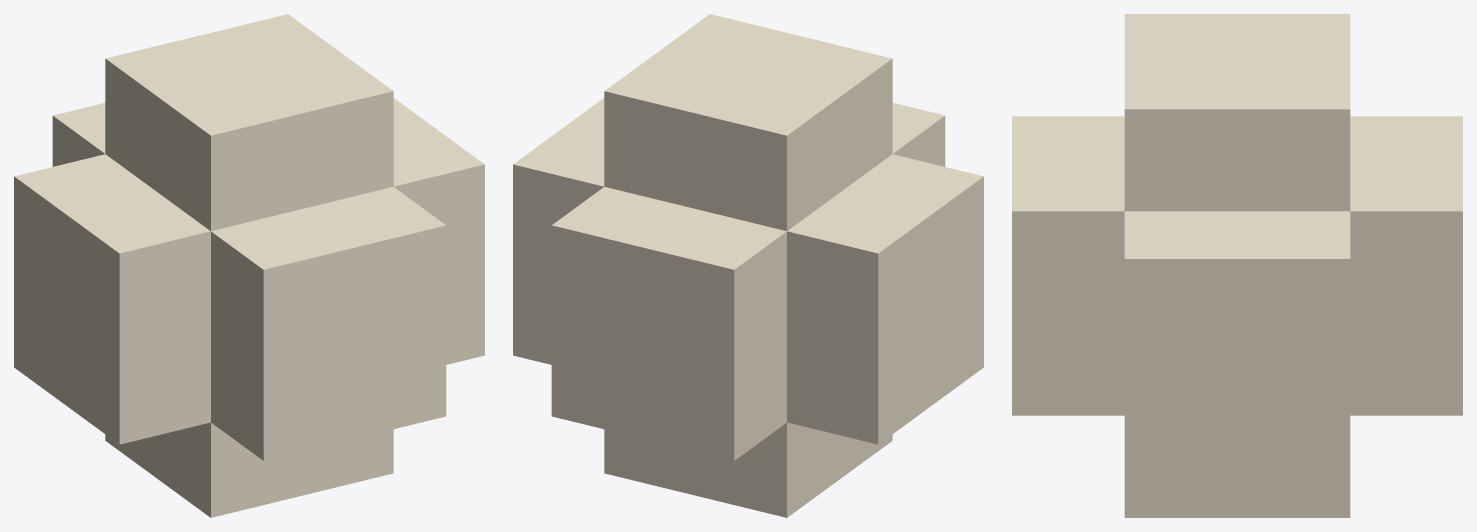
The model's file is lamb__tail.glb.
3 views of the same model, side by side, from view 1: azimuth 30°, elevation 25°; view 2: azimuth 150°, elevation 25°; view 3: azimuth 270°, elevation 25° (orthographic). The views are drawn at different scales.
Parts seen in each view (by area): view 1: lamb__tail; view 2: lamb__tail; view 3: lamb__tail.
Part boxes in pixels (box(x1,y1,x2,y2)): lamb__tail: box(14, 14, 484, 517); lamb__tail: box(513, 14, 983, 517); lamb__tail: box(1012, 14, 1462, 517).
Size of the model in its own units: 0.4 by 0.4 by 0.4.
1 material, 1 textured.
